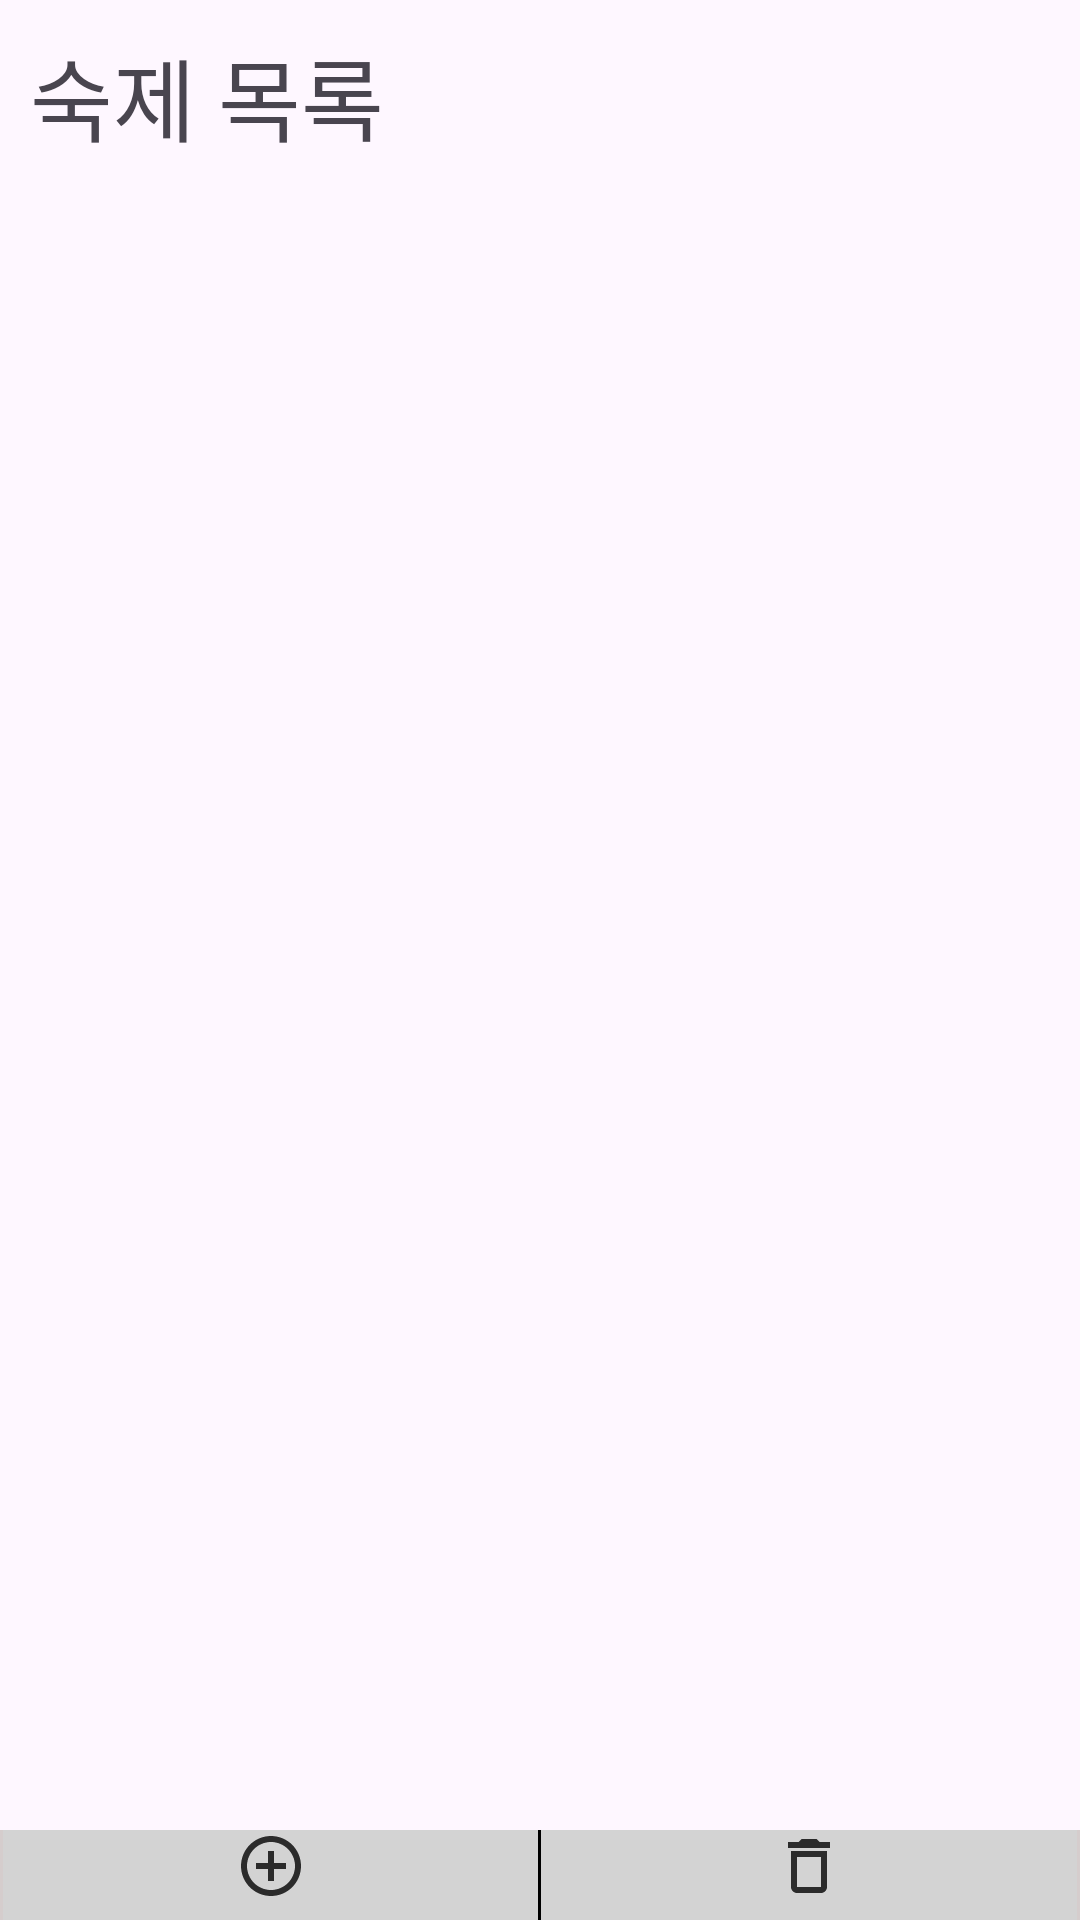

Point at icon controls on the screen. Image size 1080 x 1920, points as [x,y].
add circle: [271,1866]
delete: [809,1866]
